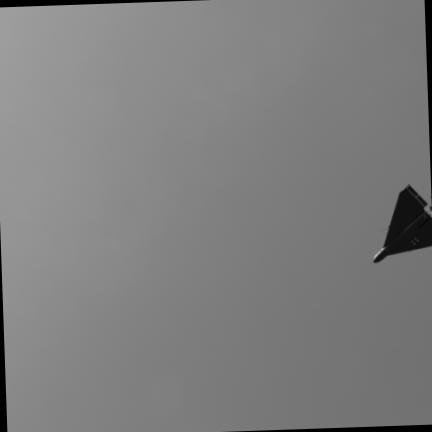Shahed: (374, 186, 432, 262)
